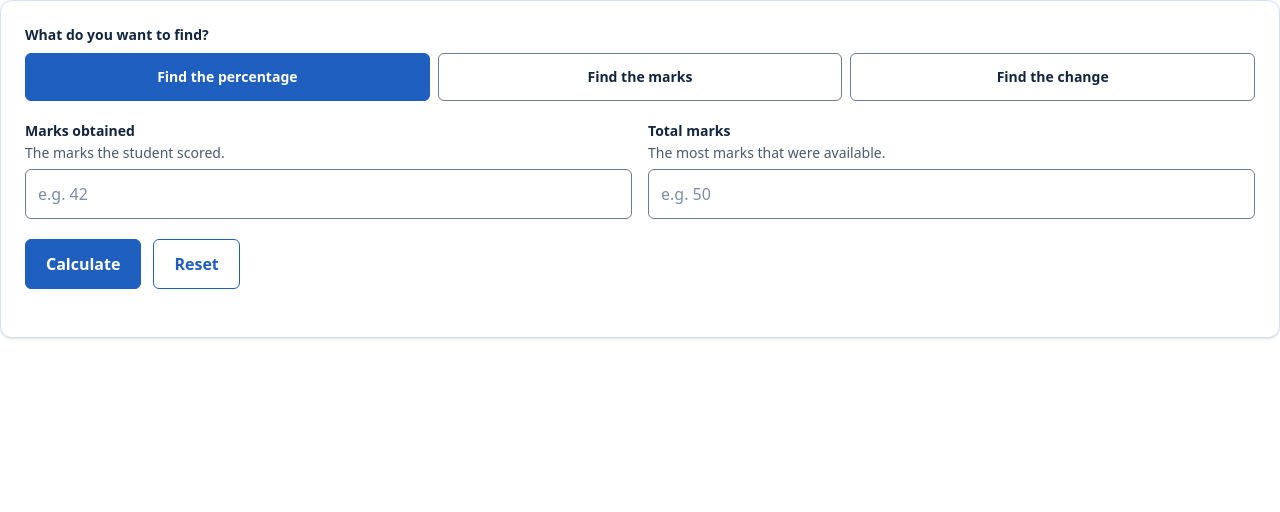
PercentageCalculator › shows errors for empty fields and moves focus to the error summary
Click the button "Calculate": click(83, 264) [25,239,141,289]
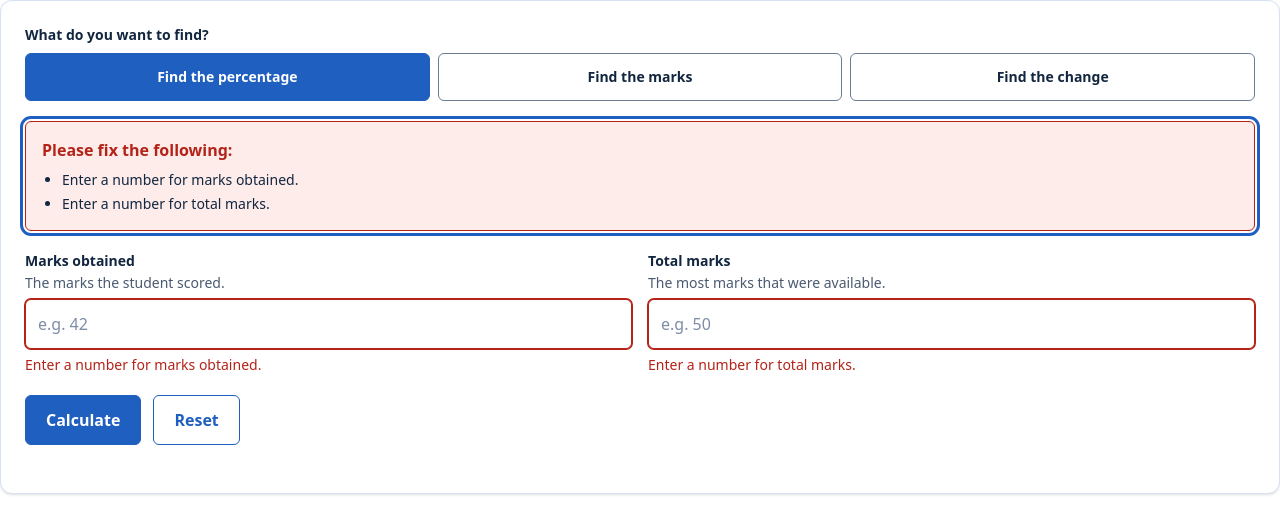
Result: the message shows "Enter a number for marks obtained." at [62,170,298,189]
Result: the message shows "Enter a number for total marks." at [62,194,270,213]
